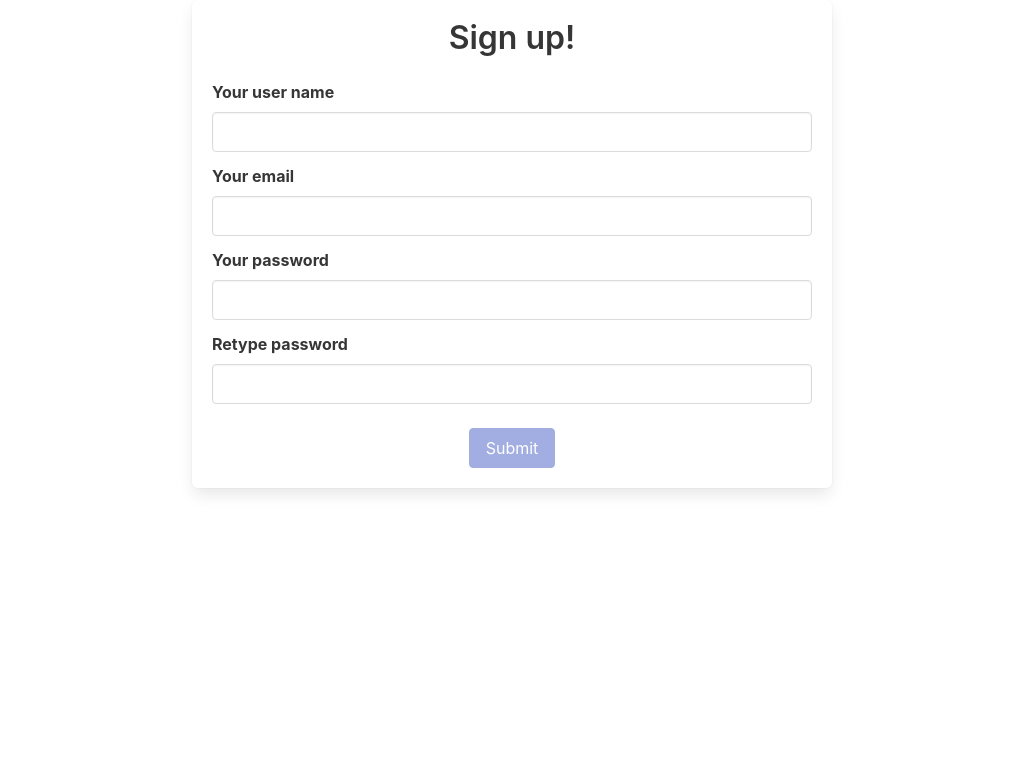
Signup page › on interaction level › notifies user after successful signup
Type "user111" into the field labelled "Your user name". click: (512, 132)
box: [212, 112, 812, 152]
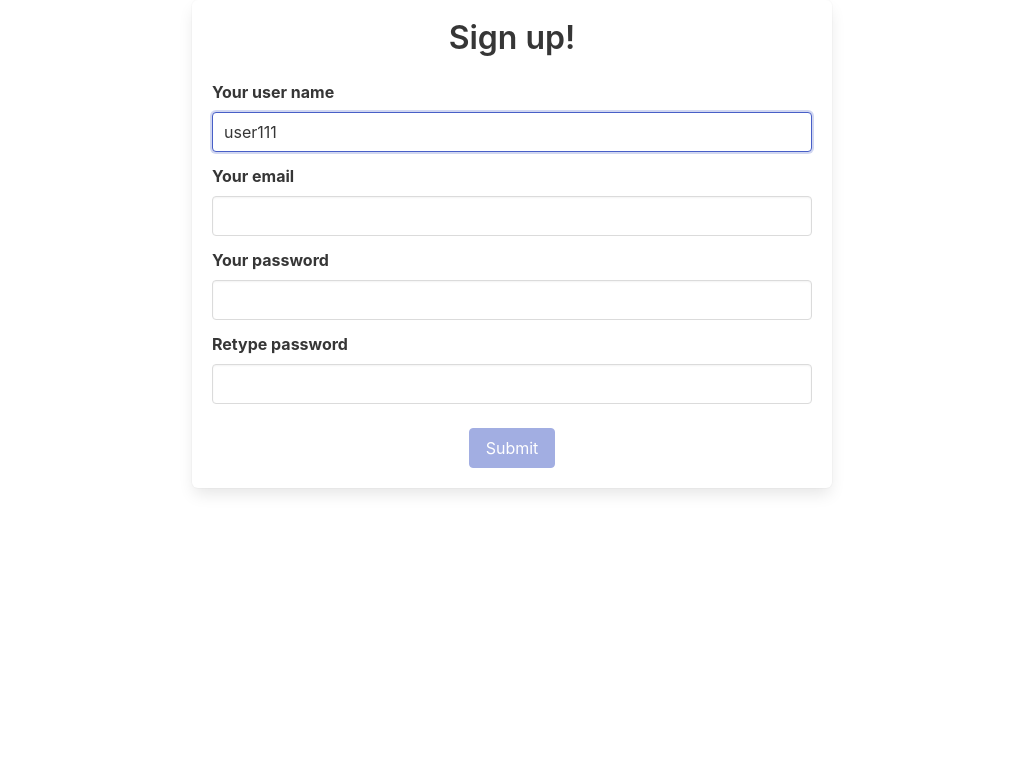
Type "user111@mail.com" into the field labelled "Your email". click: (512, 216)
box: [212, 196, 812, 236]
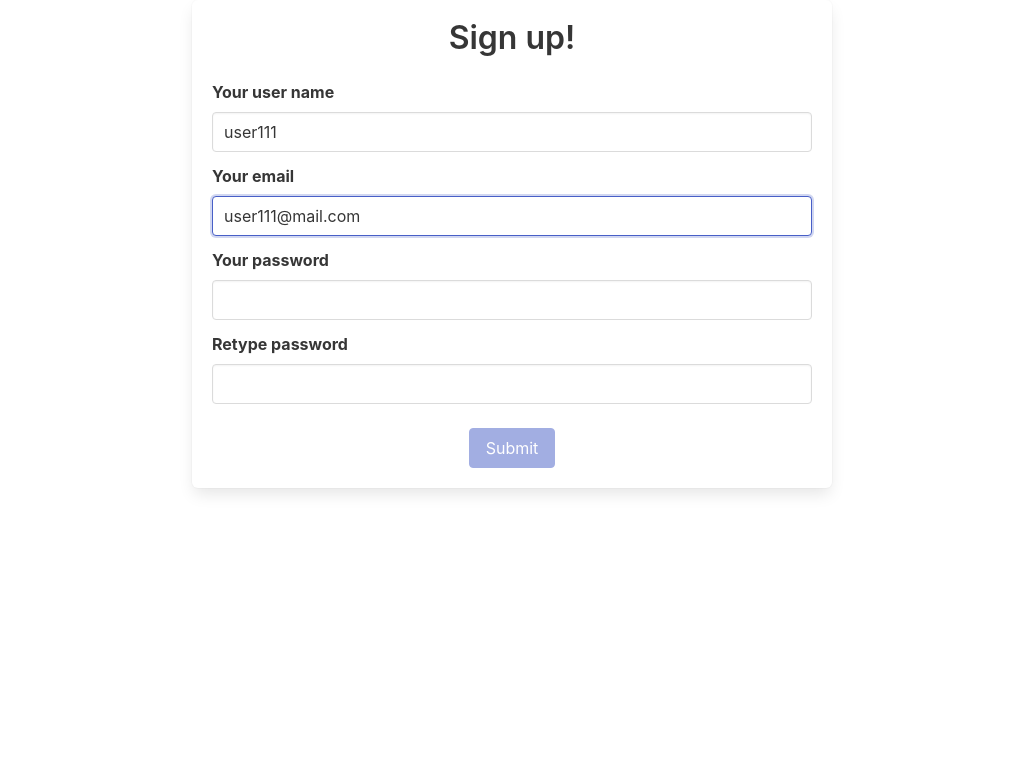
Type "p4ssword" into the password field labelled "Your password". click: (512, 300)
box: [212, 280, 812, 320]
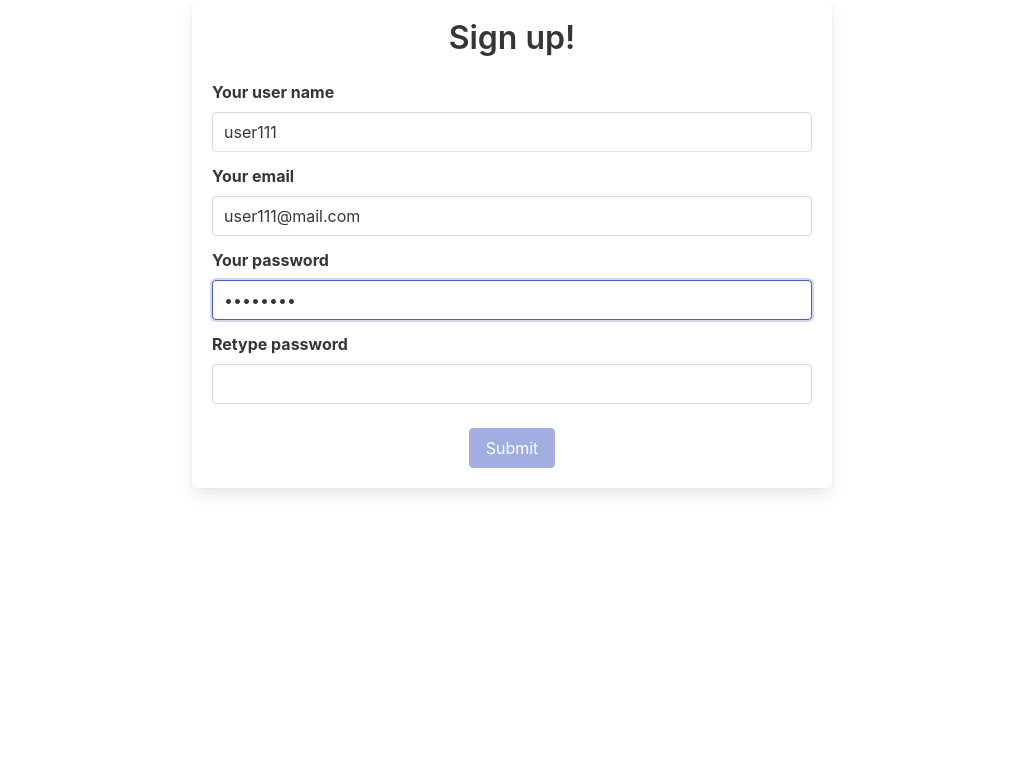
Type "p4ssword" into the password field labelled "Retype password". click: (512, 384)
box: [212, 364, 812, 404]
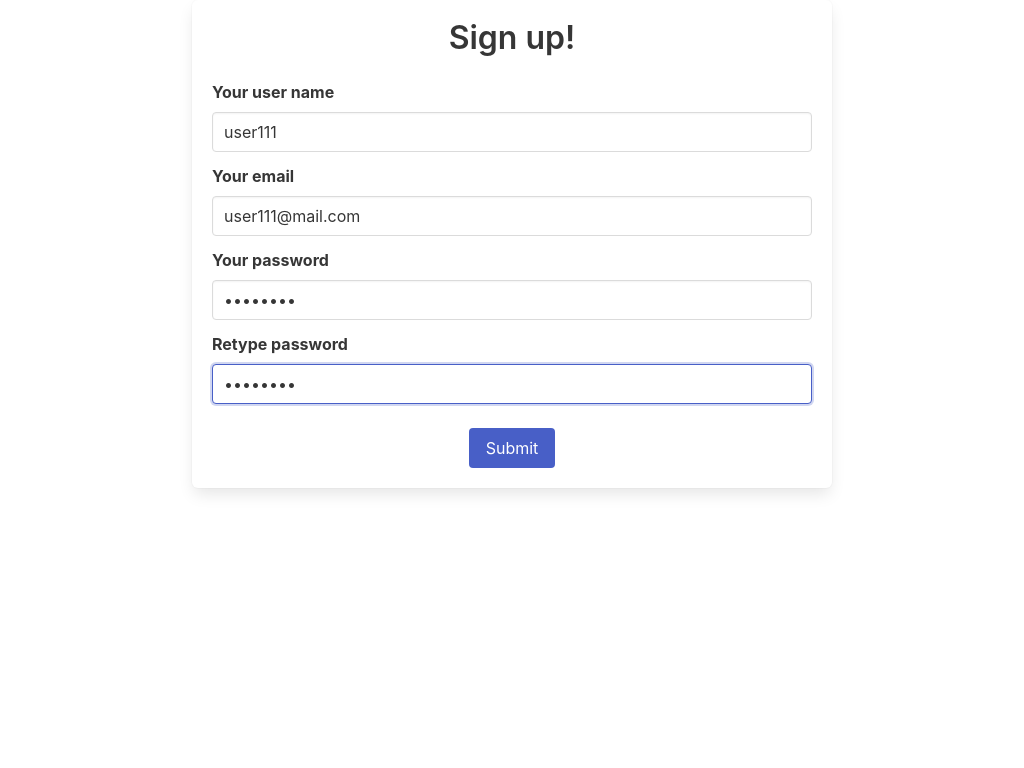
Click the button "Submit". click: (512, 448)
box: [469, 428, 555, 468]
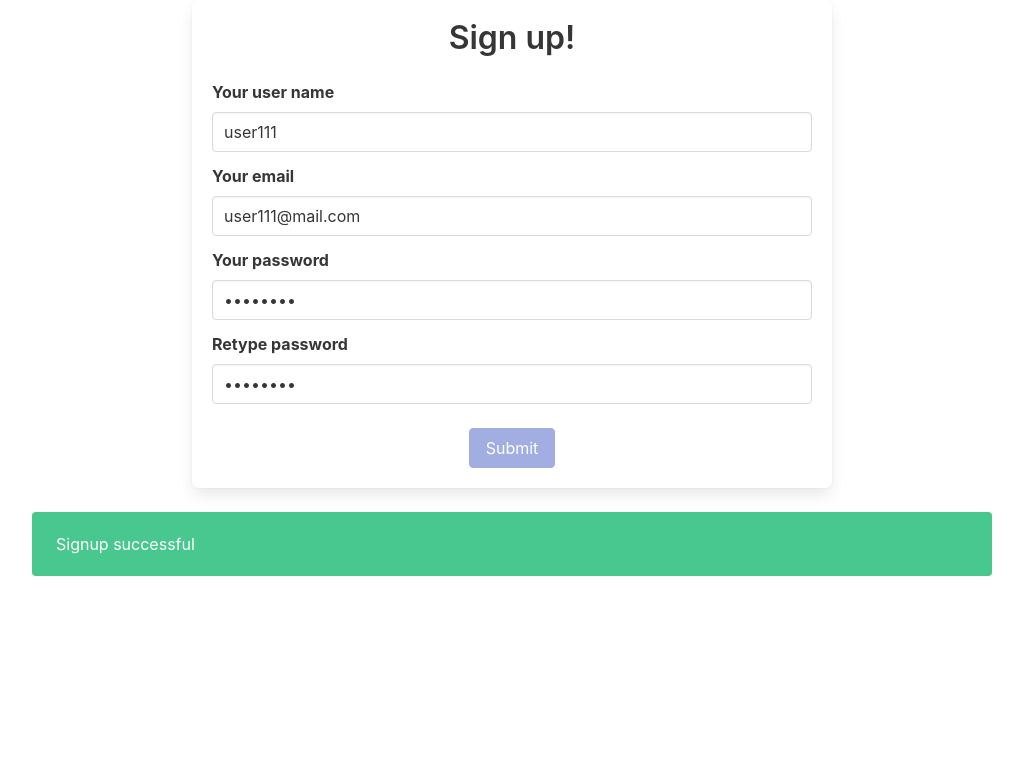
Expected: the text "Signup successful" is shown, [32, 512, 992, 576]
